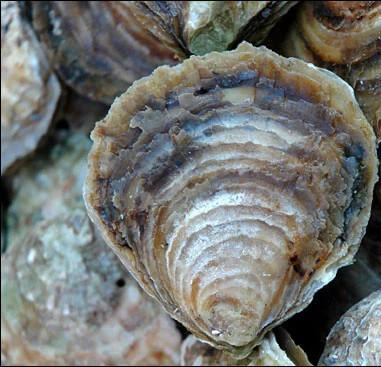3: (0, 0, 71, 180), (181, 325, 317, 367)
Oyster-Closed: (85, 40, 379, 356), (130, 0, 298, 58), (318, 289, 381, 367)
Oyster-Open: (0, 149, 181, 367), (29, 0, 182, 106), (281, 0, 381, 146)
